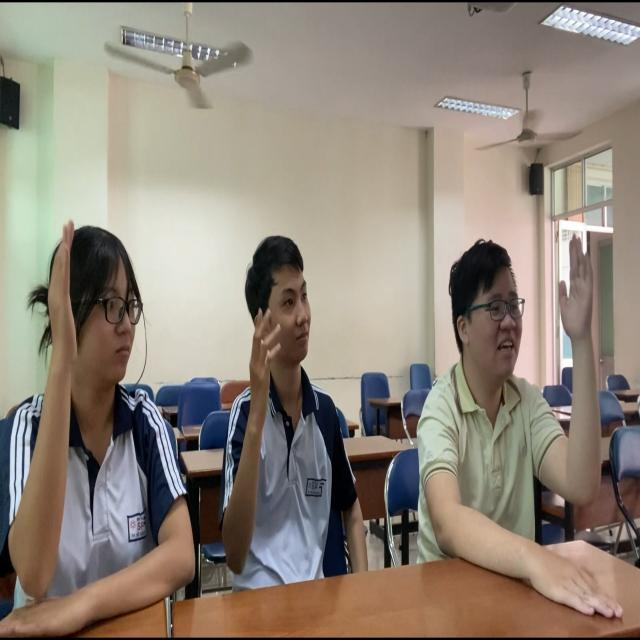raise_hand: (421, 204, 640, 640), (1, 174, 192, 640)
